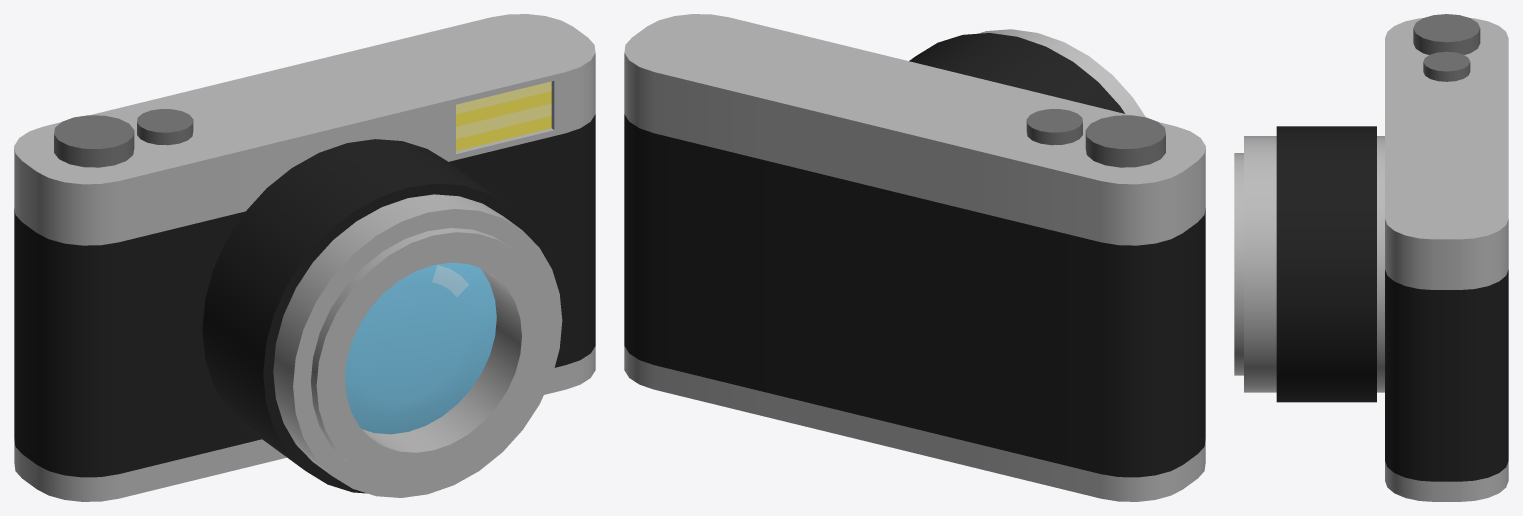
Rendered from camera.gltf.
3 renders of one model, left to right at view 1: azimuth 30°, elevation 25°; view 2: azimuth 150°, elevation 25°; view 3: azimuth 270°, elevation 25°, orthographic. The views are drawn at different scales.
Parts seen in each view (by area): view 1: Cube.940; view 2: Cube.940; view 3: Cube.940.
Boxes of the visible parts, left/top/right/bottom form: Cube.940: left=14, top=14, right=595, bottom=501; Cube.940: left=624, top=14, right=1205, bottom=501; Cube.940: left=1234, top=14, right=1508, bottom=501.
Size of the model in its own units: 2.16 by 1.26 by 1.13.
Materials: 1 (1 with a texture image).
